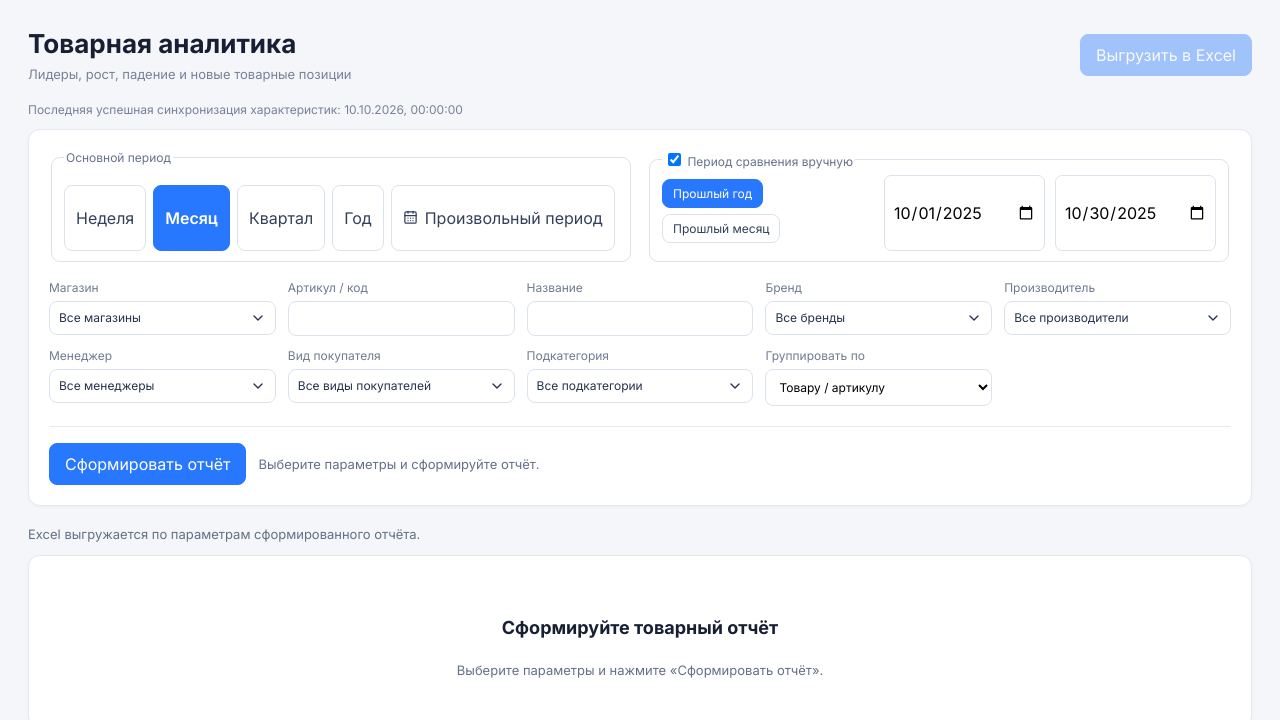
Test case: explicit product analytics loading › does not POST on opening, StrictMode remount or rerender
This screenshot has width=1280, height=720.
Expected: the heading "Сформируйте товарный отчёт" is shown, [502, 616, 778, 638]
Expected: the button "Выгрузить в Excel" is disabled, [1080, 34, 1252, 76]
Click the button "Сформировать отчёт" at (148, 464), box [49, 443, 246, 485]
(page scrolled)
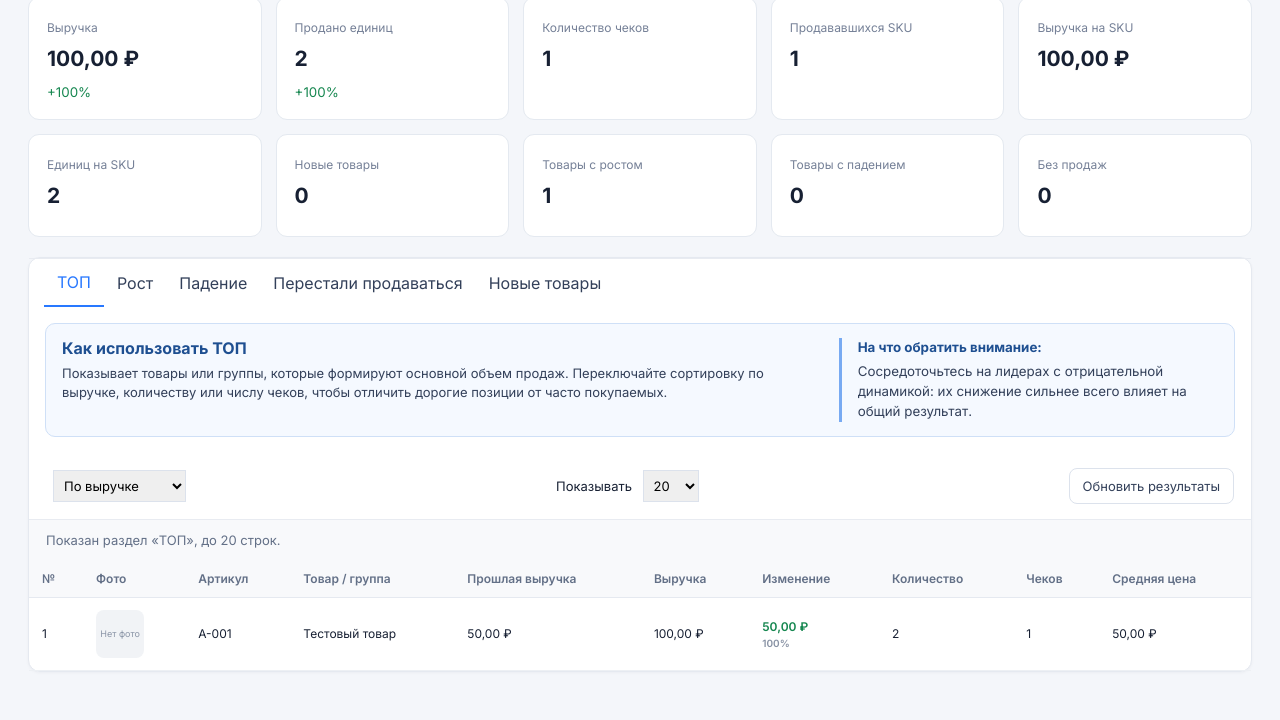
Result: the text "Тестовый товар" is shown at [290, 597, 454, 670]
